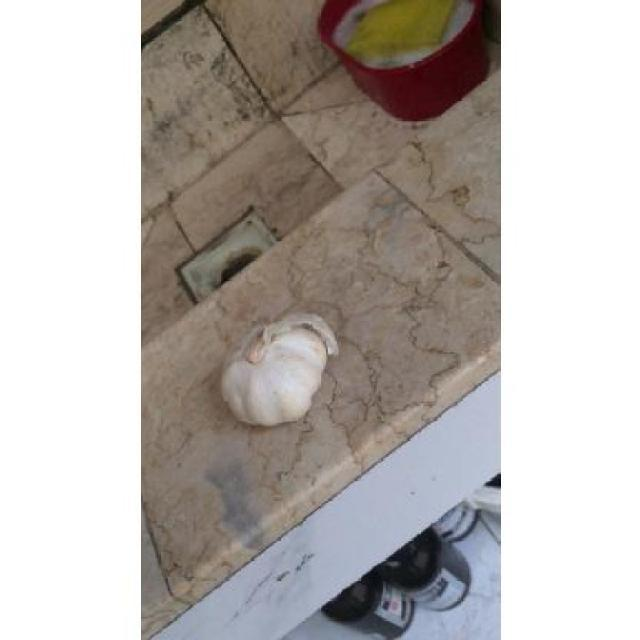garlic: (222, 314, 339, 426)
